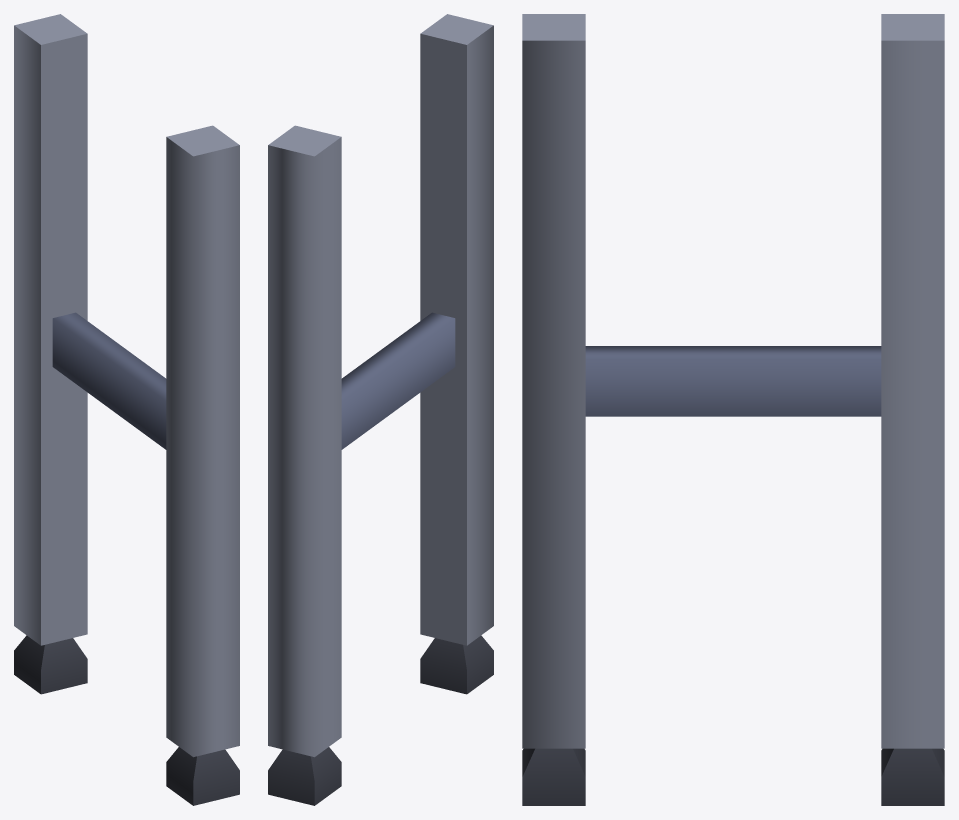
File: StructureTall-transformed.glb
3 renders of one model, left to right at view 1: azimuth 30°, elevation 25°; view 2: azimuth 150°, elevation 25°; view 3: azimuth 270°, elevation 25°, orthographic. The views are drawn at different scales.
Parts seen in each view (by area): view 1: structure-tall; view 2: structure-tall; view 3: structure-tall.
Part boxes in pixels (x1,y1,x2,y2): structure-tall: (14, 14, 239, 805); structure-tall: (268, 14, 493, 805); structure-tall: (522, 14, 944, 805).
Size of the model in its own units: 0.15 by 2 by 1.
